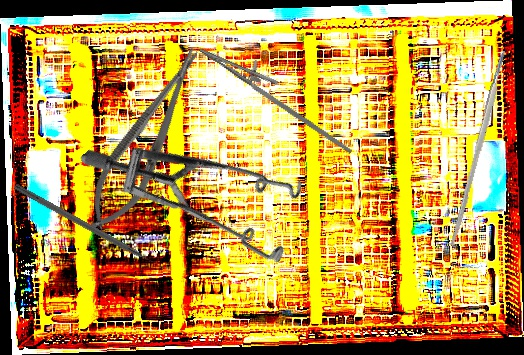Hook Surgical: (12, 183, 165, 273)
Needle Holder: (74, 37, 218, 243), (188, 35, 369, 154)
Scalpel Handle: (448, 50, 509, 247)
Speculum: (79, 59, 331, 318)
